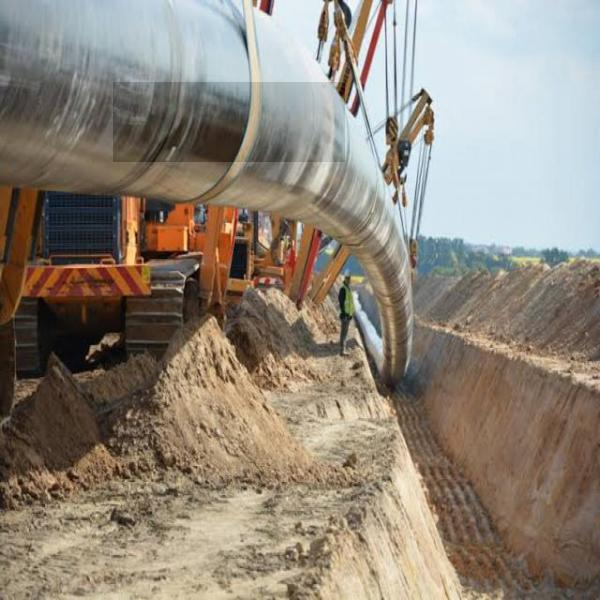no leak: (113, 82, 345, 162)
